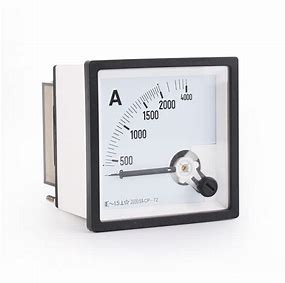pointer: (94, 65, 232, 222)
